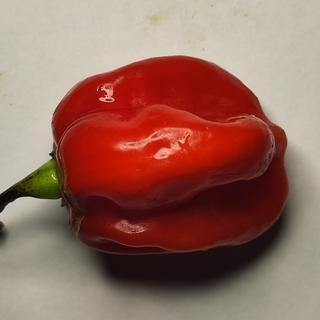Grade-A: (46, 47, 289, 260)
